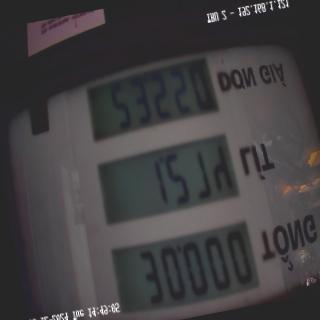screen: (70, 33, 267, 320)
